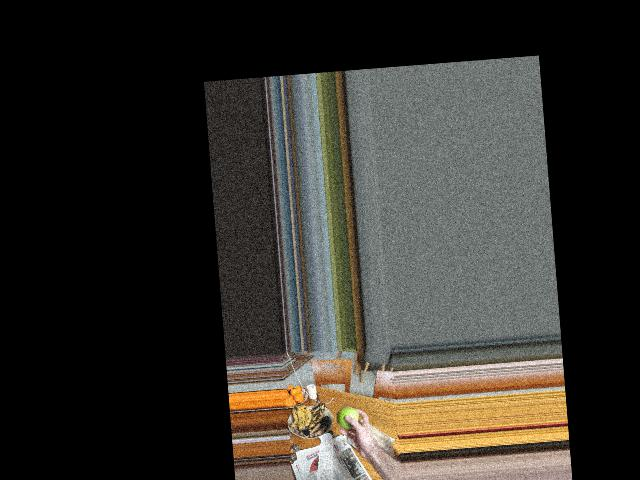apple: (336, 405, 360, 431)
